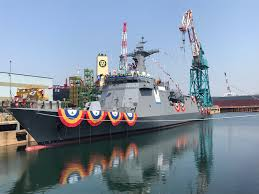tau_muctieu: (15, 50, 215, 133)
